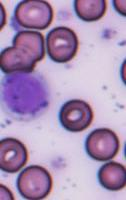L: (1, 70, 54, 121)
